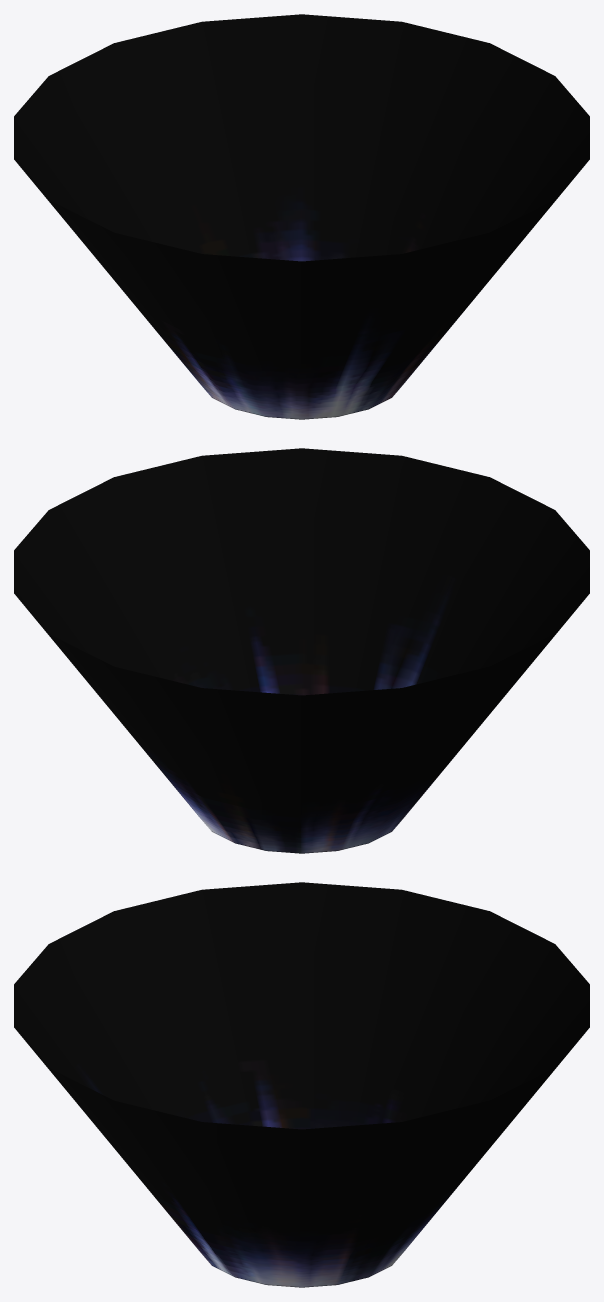
The model's file is chaopiao_yuanzhu.FBX.
3 views of the same model, one above another, from view 1: azimuth 30°, elevation 25°; view 2: azimuth 150°, elevation 25°; view 3: azimuth 270°, elevation 25° (orthographic).
Visible parts, largest first — view 1: Cylinder001; view 2: Cylinder001; view 3: Cylinder001.
Boxes of the visible parts, x1,y1,x2,y2 form: Cylinder001: (14,14,589,419); Cylinder001: (14,448,589,853); Cylinder001: (14,882,589,1287).
Size of the model in its own units: 273 by 122 by 269.
Materials: 1 (1 with a texture image).
